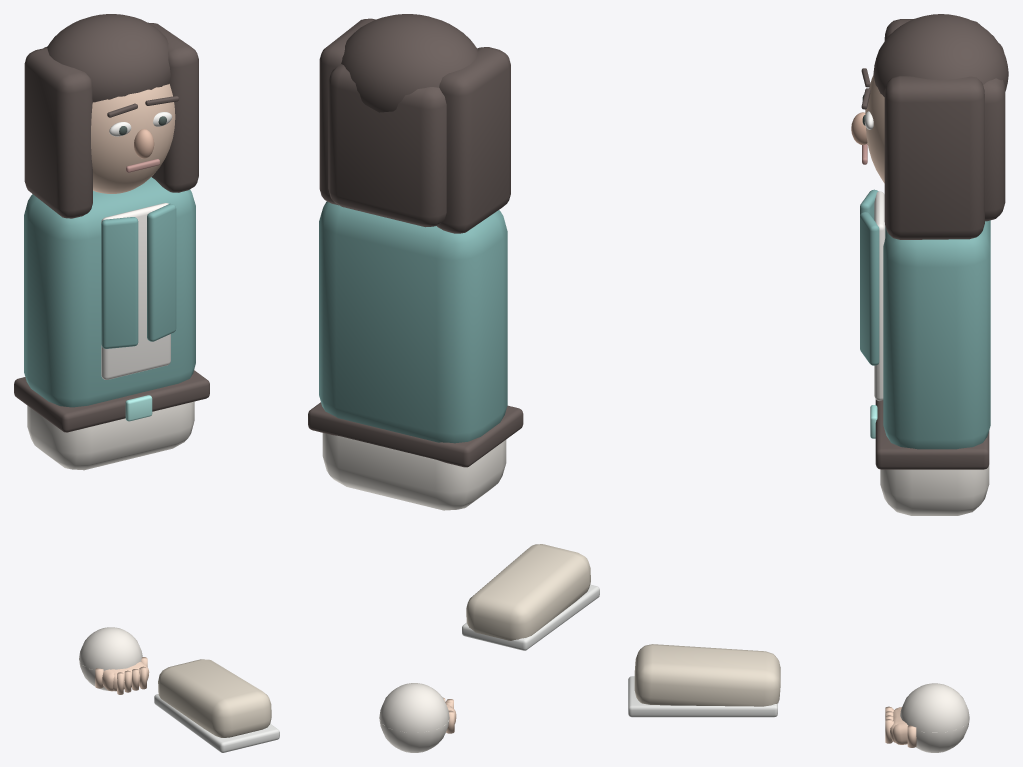
3 views of the same model, side by side, from view 1: azimuth 30°, elevation 25°; view 2: azimuth 150°, elevation 25°; view 3: azimuth 270°, elevation 25° (orthographic). The views are drawn at different scales.
Parts seen in each view (by area): view 1: Torso, BobSide_-1, HairCap, Pelvis, ShoeL, HeadMesh, LapelL, BobSide_1, Belt, LapelR, ShirtFront, ThighL_cap_a (+3 smaller); view 2: Torso, BobBack, BobSide_-1, HairCap, Pelvis, ShoeL, Belt, ThighL_cap_a, BobSide_1, SoleL; view 3: Torso, BobSide_1, ShoeL, HairCap, Pelvis, ThighL_cap_a, Belt, BobBack, LapelR, SoleL, ShirtFront, HeadMesh.
Boxes of the visible parts, box(x1,y1,x2,y2) form: Torso: box(24, 177, 195, 407); BobSide_-1: box(24, 48, 92, 218); HairCap: box(46, 14, 170, 102); Pelvis: box(27, 401, 194, 470); ShoeL: box(158, 659, 271, 737); HeadMesh: box(91, 84, 175, 193); LapelL: box(101, 217, 138, 348); BobSide_1: box(148, 22, 198, 192); Belt: box(14, 370, 209, 432); LapelR: box(147, 204, 176, 341); ShirtFront: box(101, 203, 170, 379); ThighL_cap_a: box(79, 627, 142, 690); Torso: box(319, 201, 507, 443); BobBack: box(328, 64, 446, 227); BobSide_-1: box(437, 47, 510, 233); HairCap: box(341, 14, 477, 112); Pelvis: box(322, 433, 506, 510); ShoeL: box(466, 544, 590, 640); Belt: box(308, 402, 523, 467); ThighL_cap_a: box(379, 683, 449, 752); BobSide_1: box(319, 18, 375, 205); SoleL: box(462, 584, 599, 650); Torso: box(883, 220, 990, 449); BobSide_1: box(884, 75, 984, 239); ShoeL: box(634, 644, 780, 706); HairCap: box(873, 14, 1008, 96); Pelvis: box(880, 465, 989, 515); ThighL_cap_a: box(900, 683, 969, 752); Belt: box(875, 399, 989, 469); BobBack: box(983, 43, 1005, 221); LapelR: box(860, 212, 879, 365); SoleL: box(628, 676, 777, 717); ShirtFront: box(874, 191, 885, 400); HeadMesh: box(865, 75, 884, 183).
Bounding box in the file's own units: 0.41 × 1.77 × 0.838.
